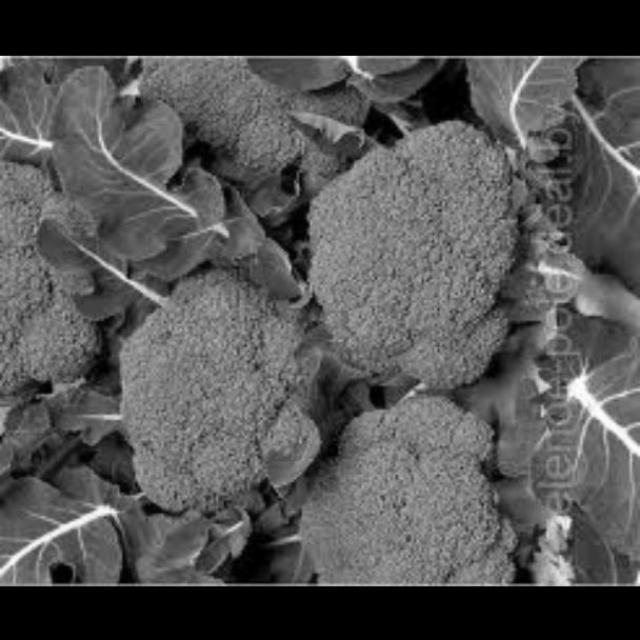broccoli: (290, 105, 521, 386), (106, 234, 322, 518), (270, 369, 514, 586), (105, 56, 343, 205), (0, 137, 122, 423)
